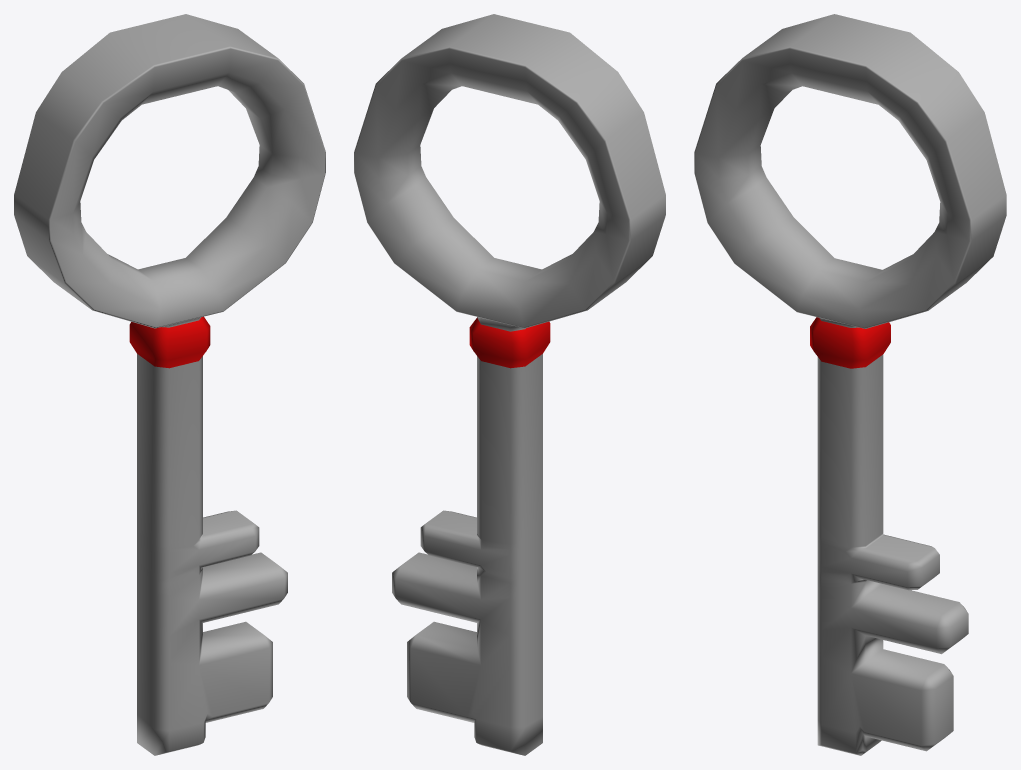
Rendered from key 3.fbx.
The picture shows the model from 3 angles, left to right: view 1: azimuth 30°, elevation 25°; view 2: azimuth 150°, elevation 25°; view 3: azimuth 330°, elevation 25°; orthographic projection.
Parts seen in each view (by area): view 1: de_key_3; view 2: de_key_3; view 3: de_key_3.
Boxes of the visible parts, x1=… form: de_key_3: x1=14, y1=14, x2=325, y2=755; de_key_3: x1=354, y1=14, x2=665, y2=755; de_key_3: x1=694, y1=14, x2=1006, y2=755.
Bounding box in the file's own units: 4.39 × 10.65 × 1.26.
